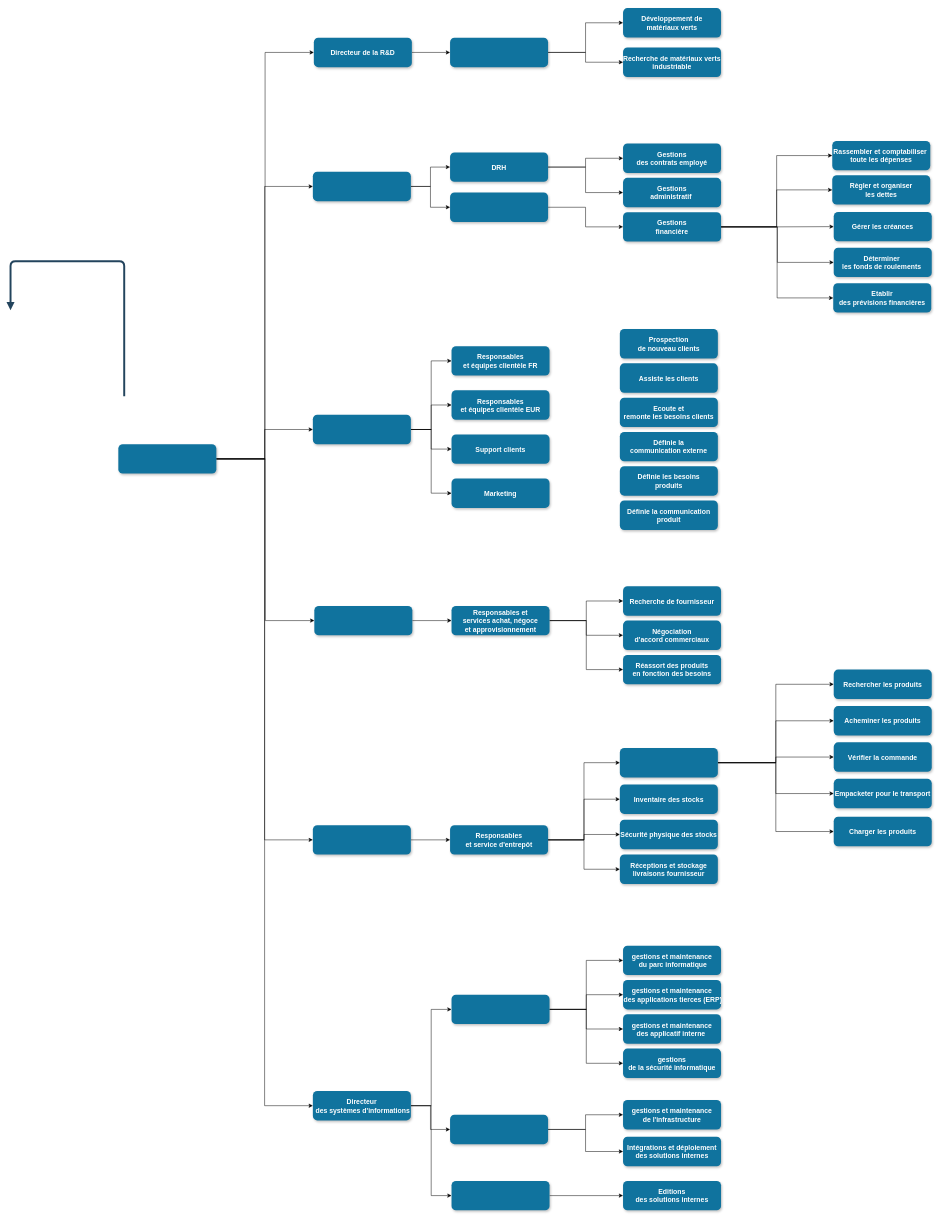
This 940x1218 diagram has some shape labels left out. Here are the shapes that lost their labels. From the top down, the centre of each, then its label:
the point at 499,53: Directeur scientifique et équipe scientifique
the point at 362,187: Directeur administratif et financier
the point at 499,207: Services compta
the point at 362,430: Directeur commercial
the point at 167,459: Directeur général
the point at 363,621: Directeur des achats
the point at 669,763: Préparer les commandes
the point at 362,840: Directeur des entrées/sortis
the point at 500,1009: Responsables et services IT
the point at 499,1130: DevOps
the point at 500,1196: Responsable et service développement
